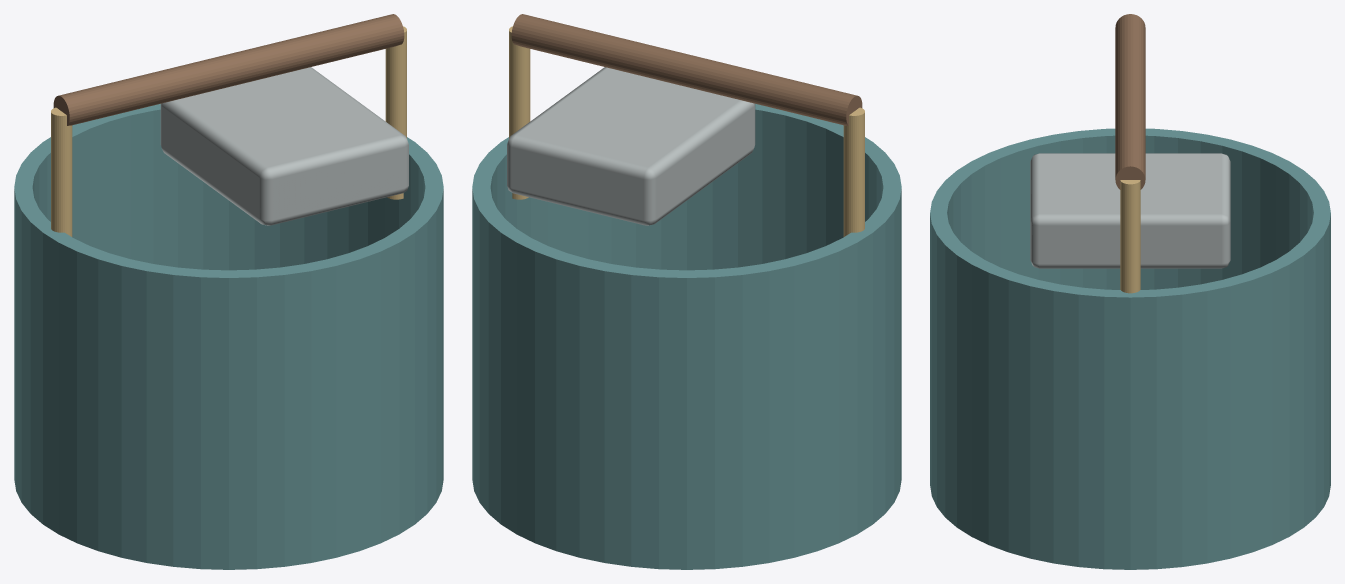
Rendered from abandoned-cinema-and-projection-booth-abandoned-cinema-497a354a__29730.glb.
The picture shows the model from 3 angles, left to right: view 1: azimuth 30°, elevation 25°; view 2: azimuth 150°, elevation 25°; view 3: azimuth 270°, elevation 25°; orthographic projection. The views are drawn at different scales.
Parts seen in each view (by area): view 1: abandoned-cinema-and-projection-booth-mop-bucket; view 2: abandoned-cinema-and-projection-booth-mop-bucket; view 3: abandoned-cinema-and-projection-booth-mop-bucket.
Part boxes in pixels (x1,y1,x2,y2): abandoned-cinema-and-projection-booth-mop-bucket: [14, 14, 443, 569]; abandoned-cinema-and-projection-booth-mop-bucket: [472, 14, 901, 569]; abandoned-cinema-and-projection-booth-mop-bucket: [930, 14, 1330, 569].
Bounding box in the file's own units: 0.4 × 0.435 × 0.4.
